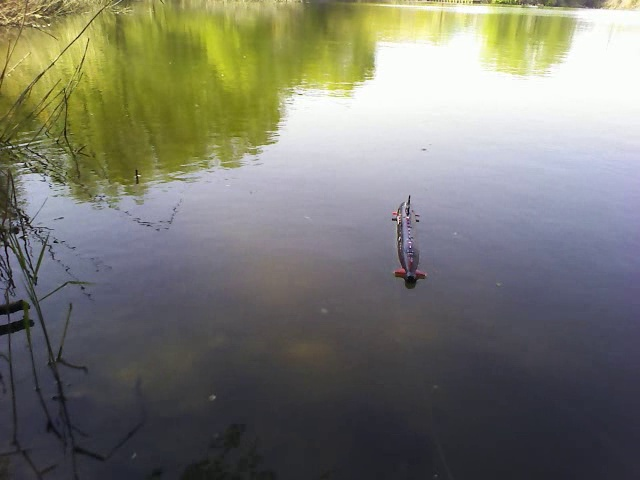submarine: (387, 194, 434, 288)
